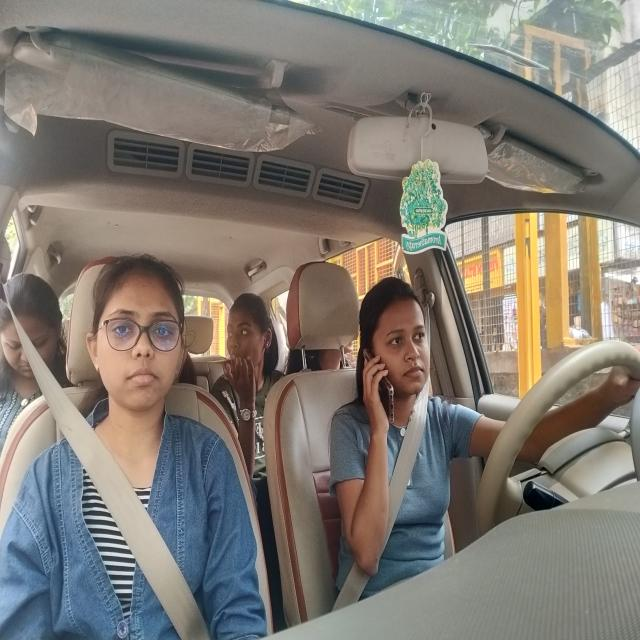mobile: (359, 351, 402, 425)
person: (88, 260, 192, 414), (356, 272, 435, 404), (0, 274, 69, 378), (222, 291, 270, 377)
